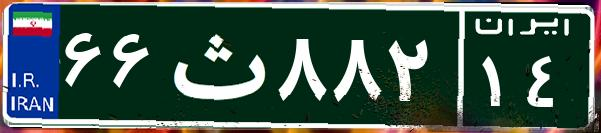1: (475, 38, 525, 113)
2: (385, 28, 445, 110)
4: (525, 38, 570, 115)
6: (57, 26, 110, 107), (110, 28, 158, 105)
8: (273, 28, 330, 110), (330, 28, 385, 110)
ث: (158, 15, 273, 115)
